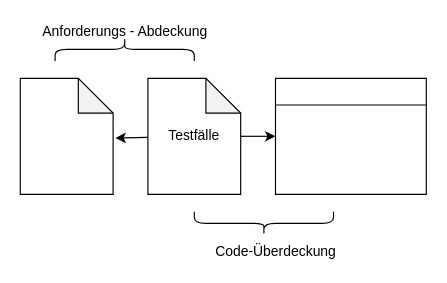
The diagram is 447 pixels wide and 283 high, and some of its shapes have lost their labels. Each missing label, with the centre of its shape:
Code: (350,135)
Spezifikation: (66,135)
